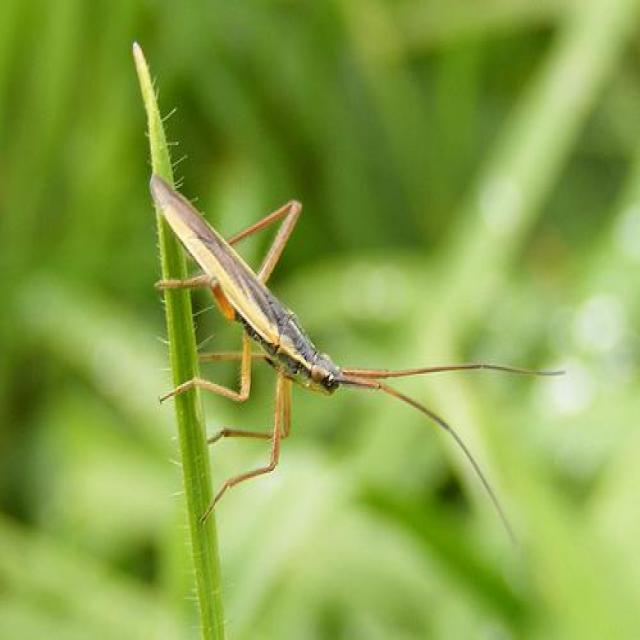Miridae-Adult-: (141, 167, 550, 533)
